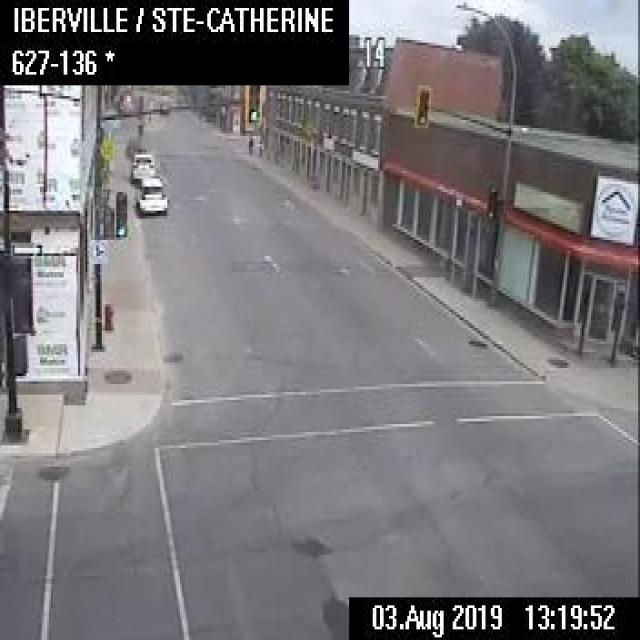pedestrian: (246, 132, 251, 152)
vehicle: (135, 176, 167, 213), (128, 150, 154, 180)
